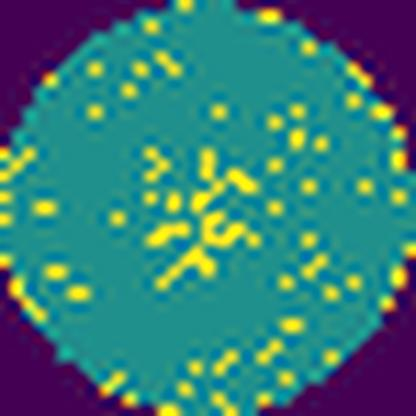Center: (145, 145, 272, 294)
